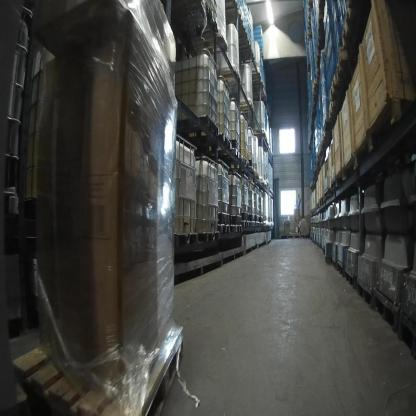pallet: (13, 327, 183, 416), (374, 290, 397, 333), (396, 311, 416, 358), (191, 28, 229, 52), (183, 117, 218, 136), (337, 48, 355, 82), (357, 280, 376, 311), (341, 7, 354, 49), (330, 73, 347, 99), (234, 97, 255, 117), (217, 69, 239, 87), (250, 127, 268, 141), (345, 269, 357, 290), (328, 101, 341, 119), (220, 135, 232, 151), (238, 38, 252, 50), (238, 24, 249, 39), (239, 50, 255, 59), (337, 262, 346, 277), (323, 120, 333, 133), (231, 147, 241, 159), (238, 9, 244, 27), (331, 255, 337, 270), (312, 78, 317, 95), (330, 177, 337, 189), (286, 233, 300, 239), (225, 0, 239, 6), (252, 71, 261, 80), (322, 133, 331, 140), (242, 159, 249, 167), (309, 1, 314, 12), (248, 165, 254, 174), (325, 256, 331, 264), (318, 147, 324, 155), (254, 171, 260, 179), (260, 50, 264, 58), (261, 80, 265, 87)
small_load_carrier: (329, 51, 337, 84), (326, 13, 334, 46), (328, 30, 336, 61), (336, 24, 342, 57), (323, 0, 331, 22), (331, 0, 340, 19), (334, 7, 340, 34)
